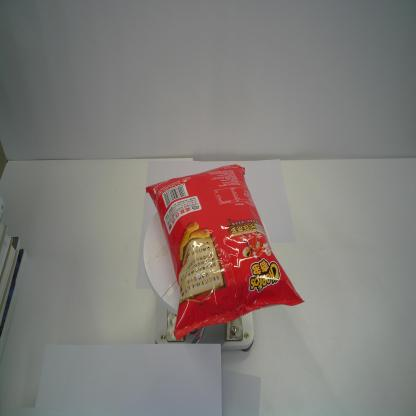Puffed Food: (144, 163, 305, 343)
